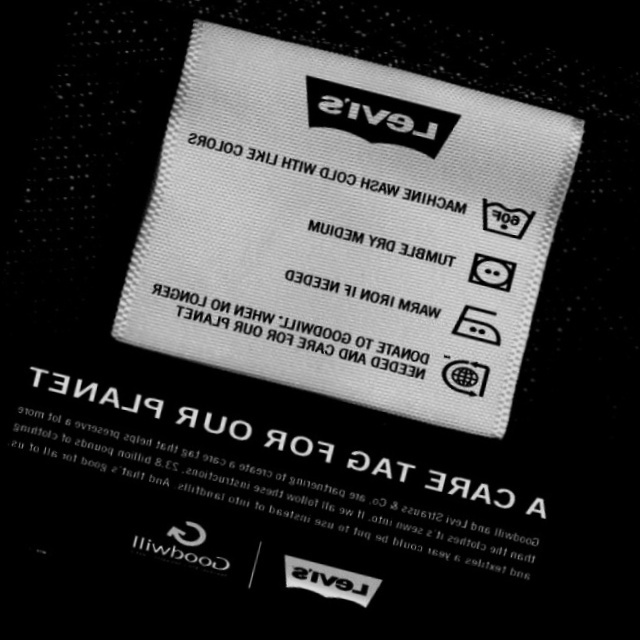30C: (470, 188, 541, 248)
iron_medium: (444, 296, 513, 353)
tumble_dry_medium: (460, 248, 524, 300)
